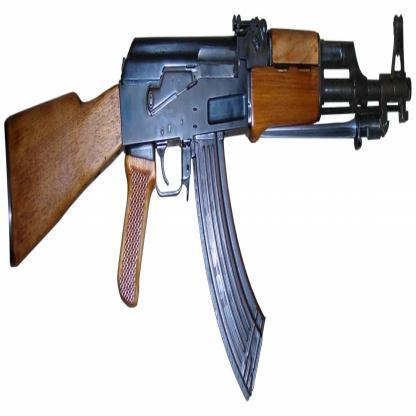gun: (2, 3, 416, 397)
